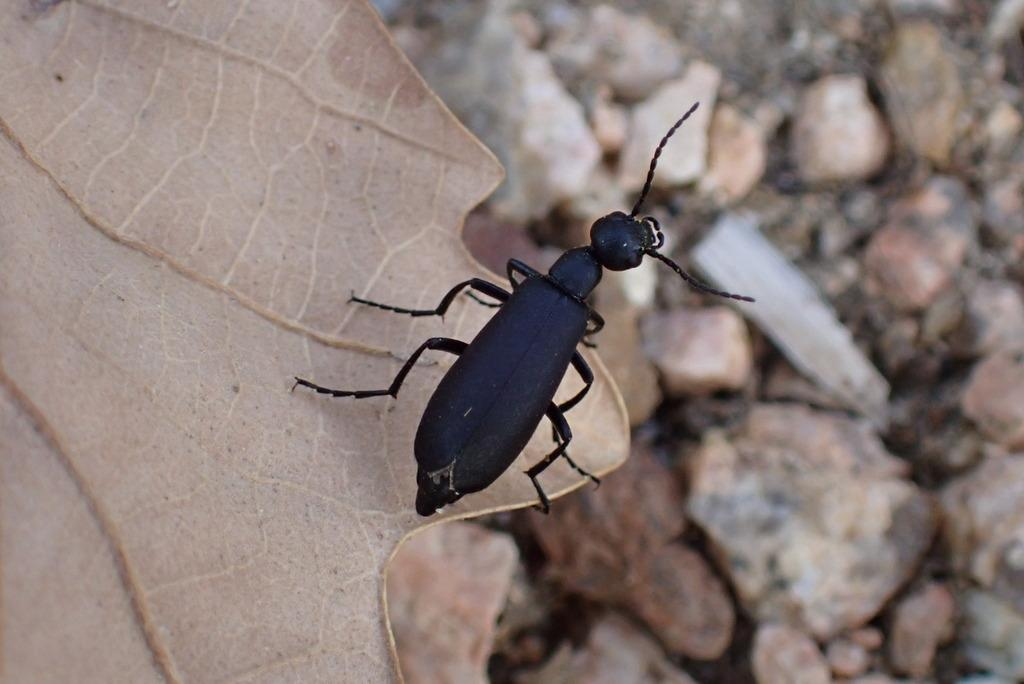blister_beetle: (216, 32, 842, 597)
